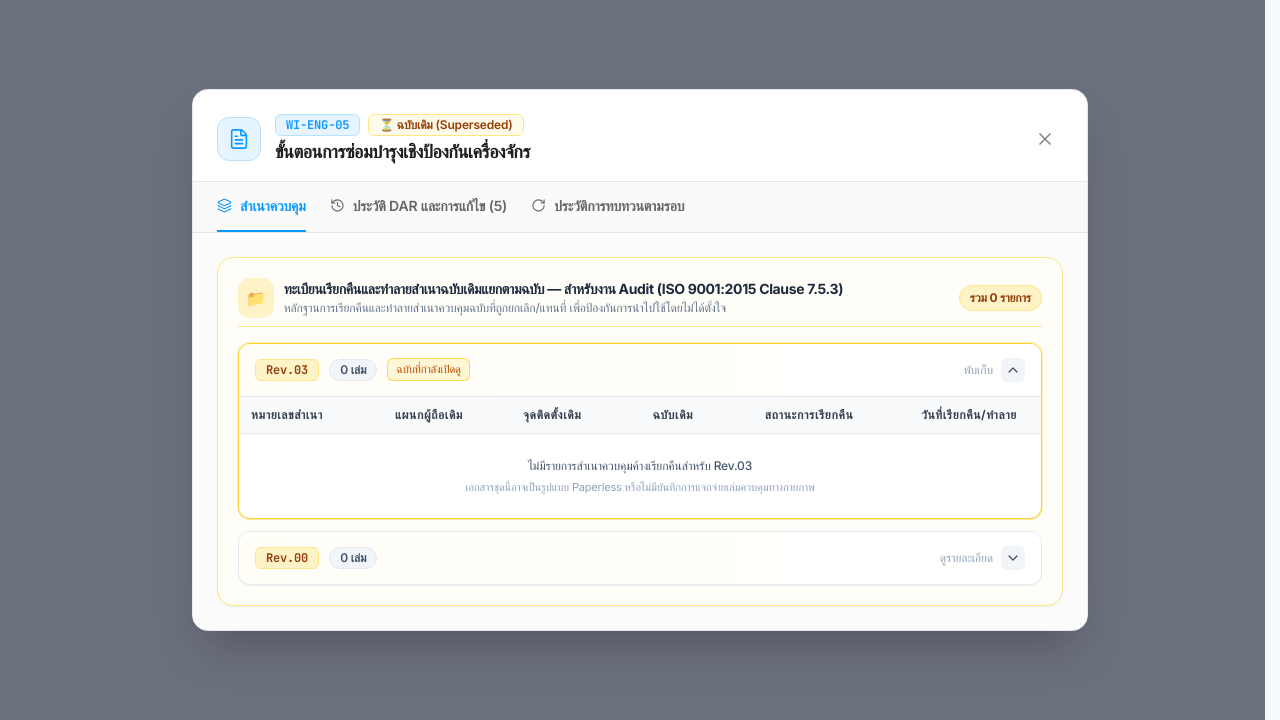
Unified Historical Revisions Vertical Accordion Timeline Test Suite › 2. Unifies all superseded revisions into Vertical Accordion Timeline in descending order
Click the button "ประวัติ DAR และการแก้ไข (5)" at (418,206), box [330,182,507,232]
(page scrolled)
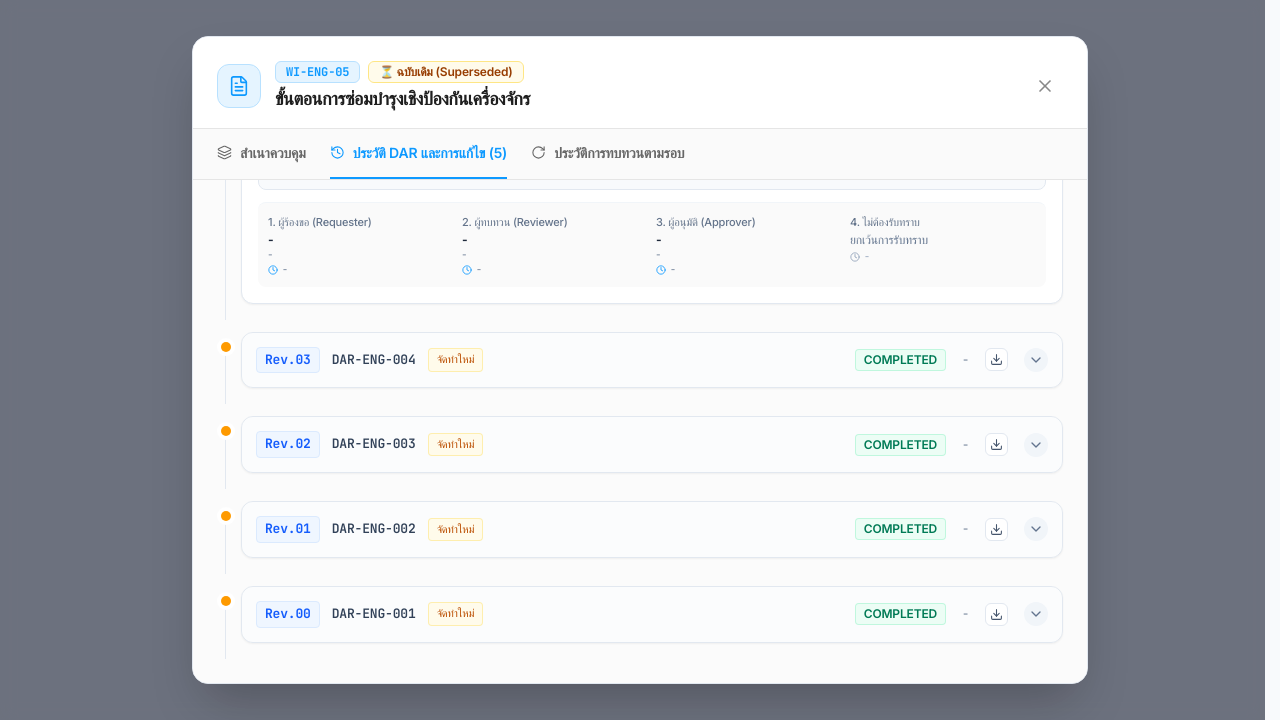
Check: the text "DAR-ENG-004" is shown, box [332,350,416,370]
Check: the text "DAR-ENG-003" is shown, box [332,434,416,455]
Check: the text "DAR-ENG-002" is shown, box [332,519,416,540]
Click the button "Rev.00 DAR-ENG-001 จัดทำใหม่ COMPLETED -" at (288,614), box [242,587,1062,642]
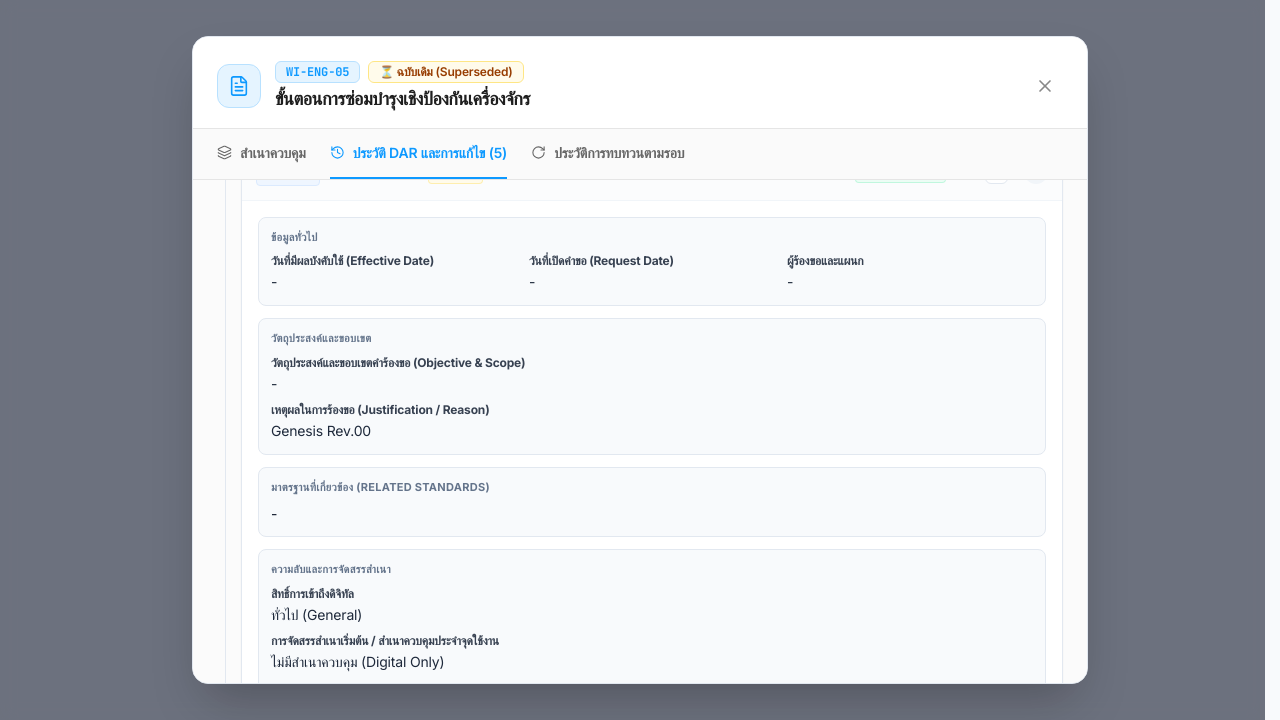
Check: the text "Genesis Rev.00" is shown, box [271,422,371,440]
